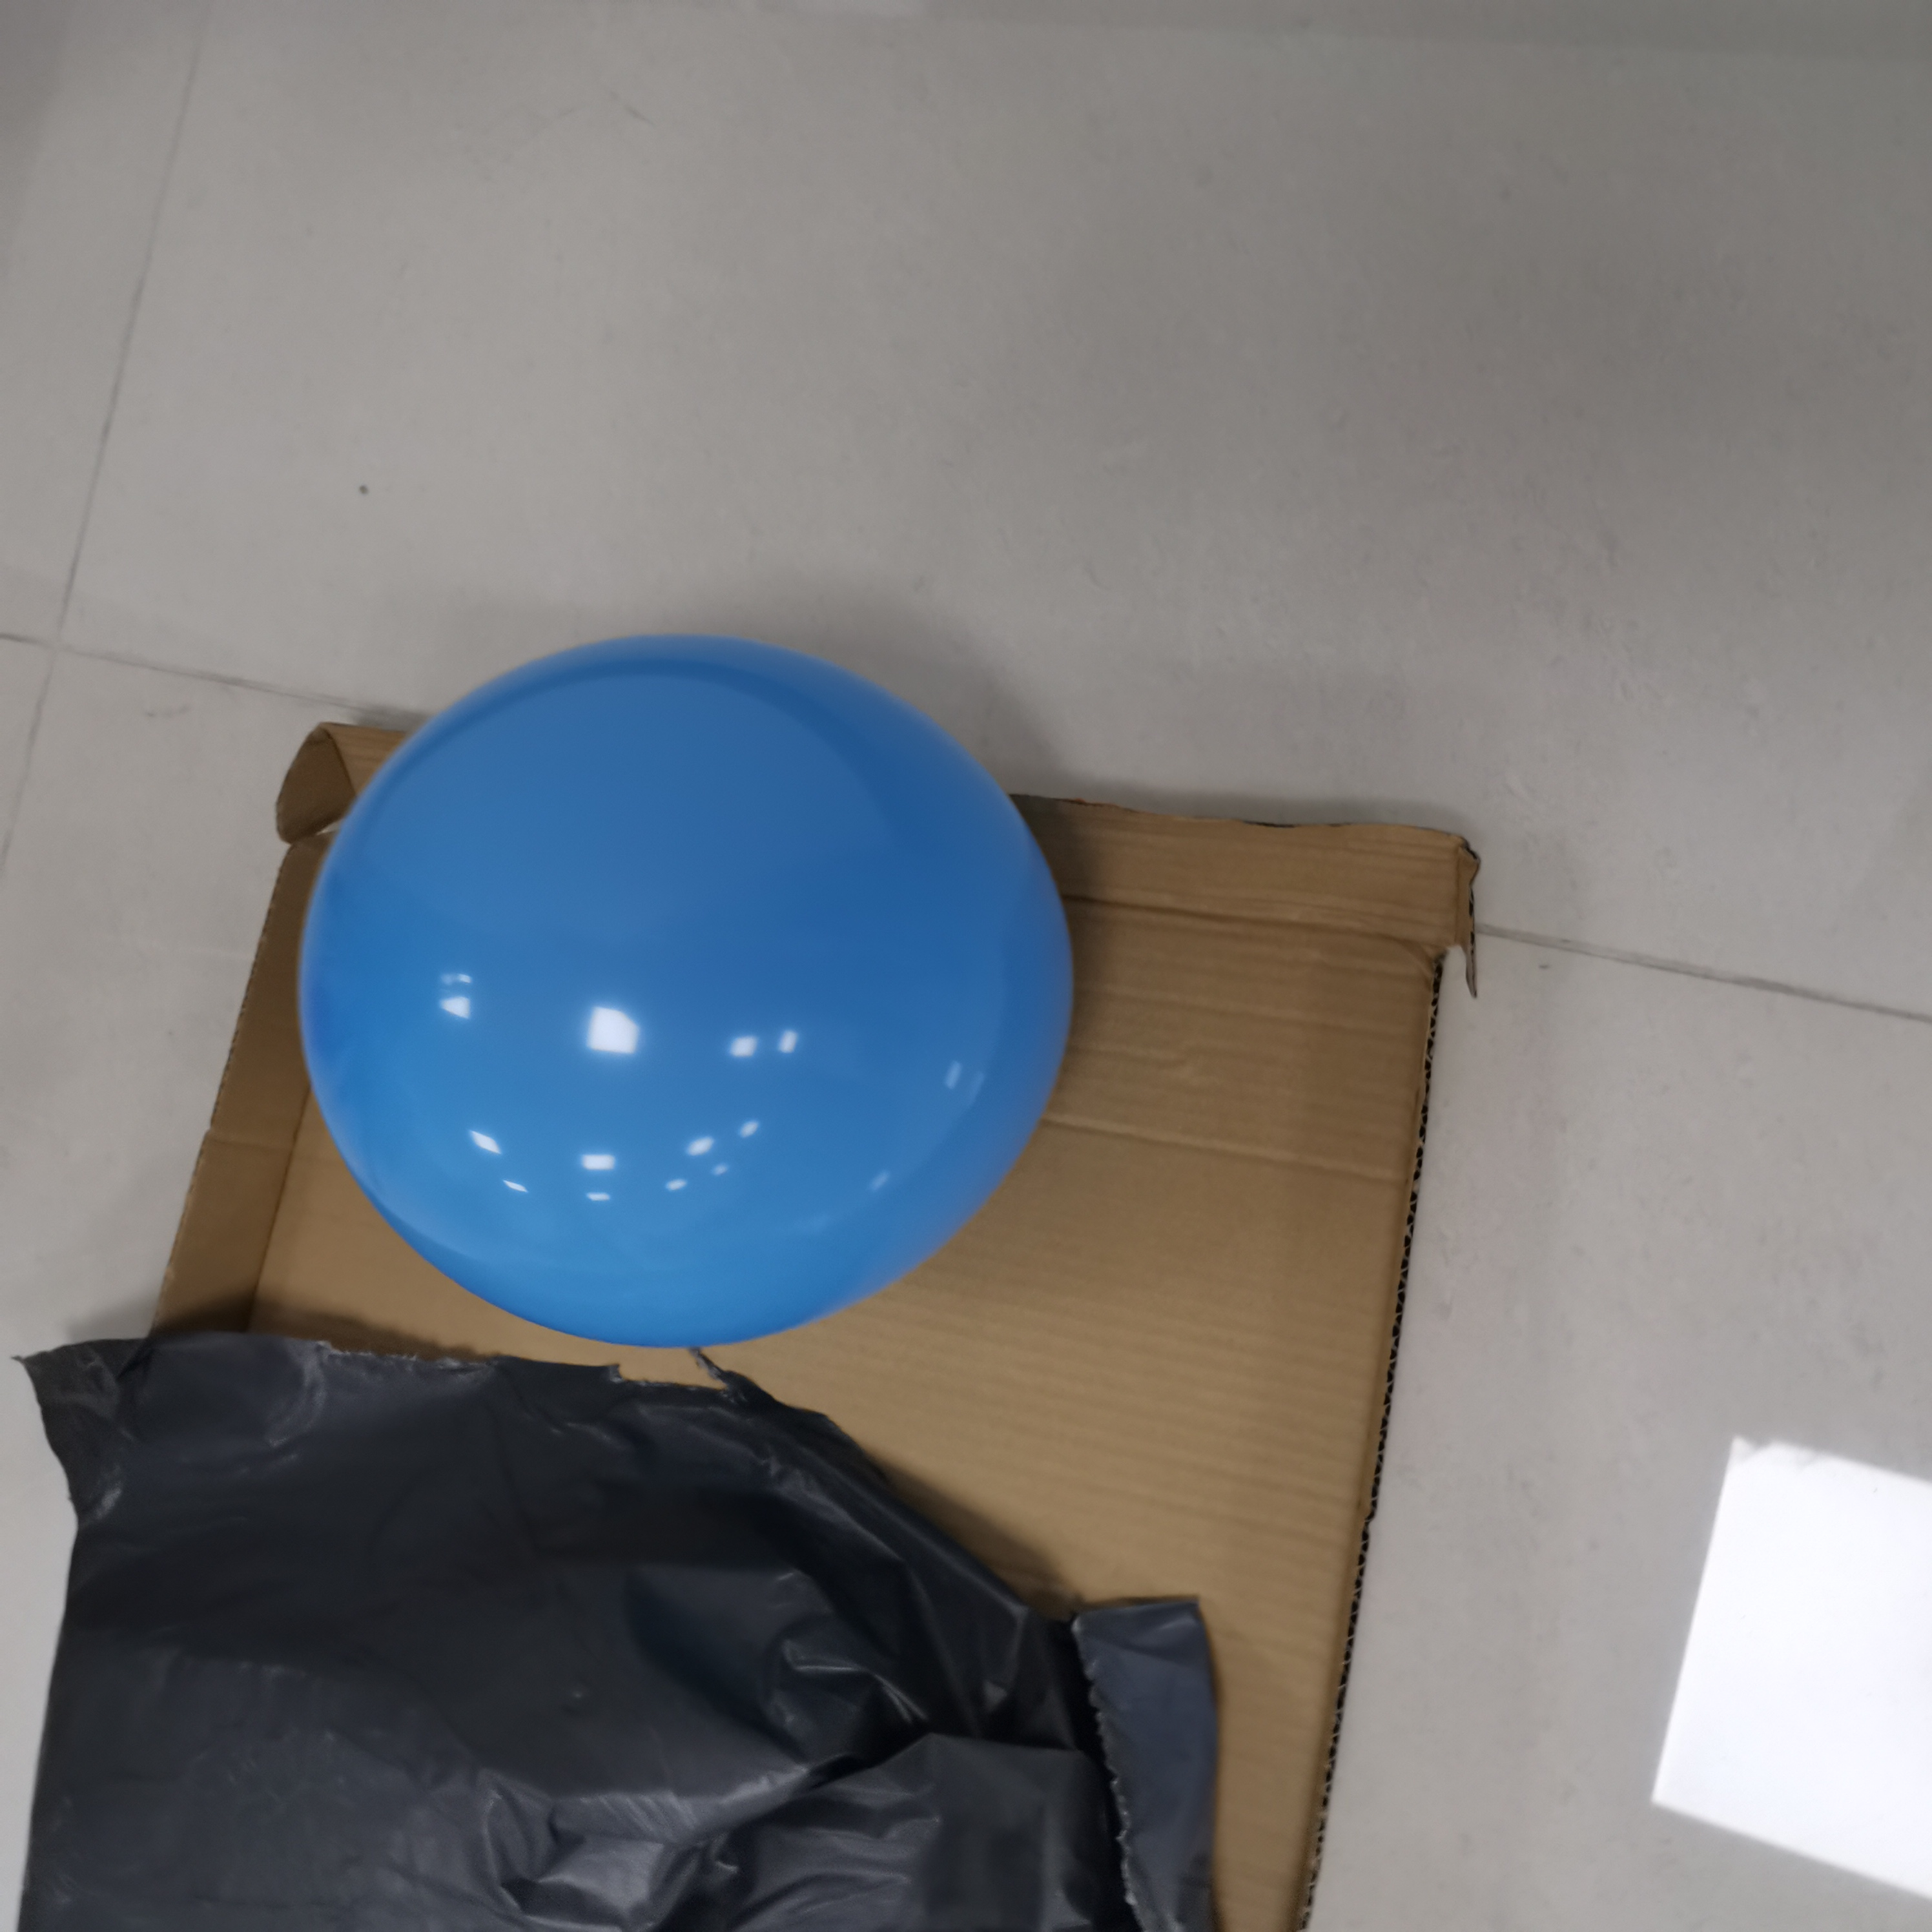balloon: (299, 635, 1072, 1345)
